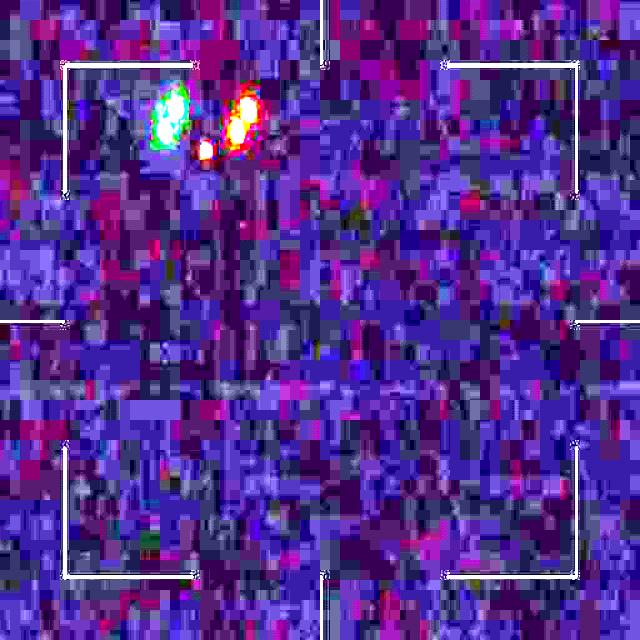bird: (154, 92, 255, 156)
